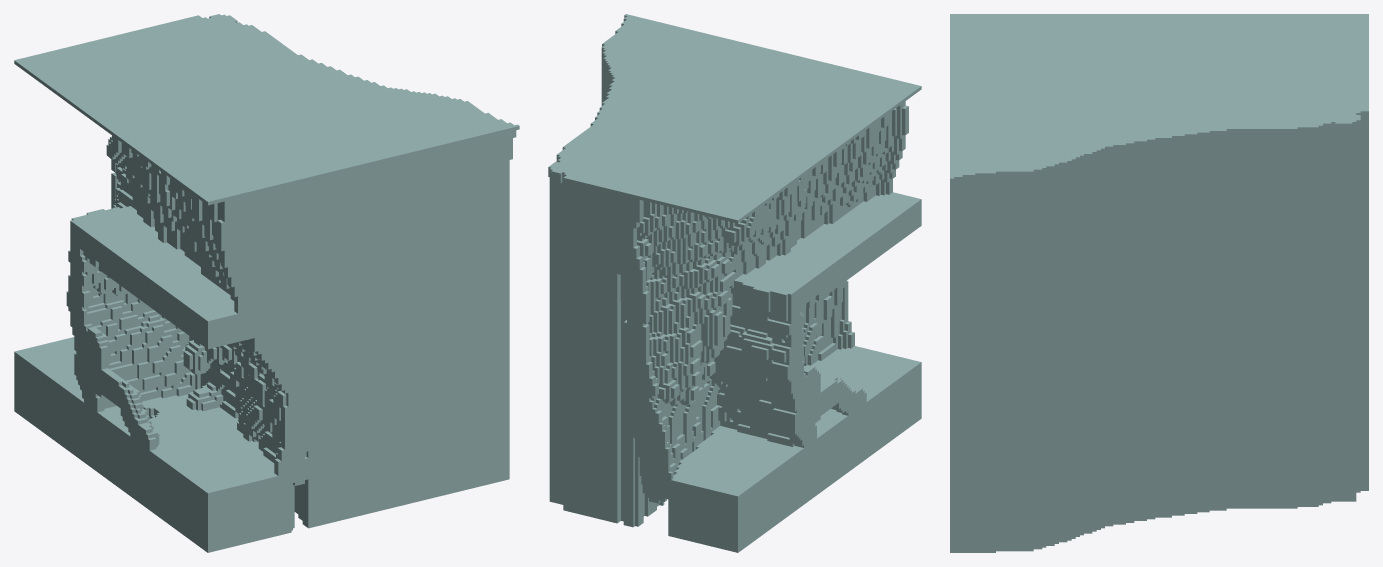
The model's file is TerrainPieces-22.obj.
3 views of the same model, side by side, from view 1: azimuth 30°, elevation 25°; view 2: azimuth 150°, elevation 25°; view 3: azimuth 270°, elevation 25° (orthographic). The views are drawn at different scales.
Parts seen in each view (by area): view 1: TerrainPieces-22; view 2: TerrainPieces-22; view 3: TerrainPieces-22.
Part boxes in pixels (x1,y1,x2,y2): TerrainPieces-22: [14, 14, 519, 552]; TerrainPieces-22: [548, 14, 921, 552]; TerrainPieces-22: [950, 14, 1368, 552].
Size of the model in its own units: 93 by 100 by 100.
1 material, 1 textured.
